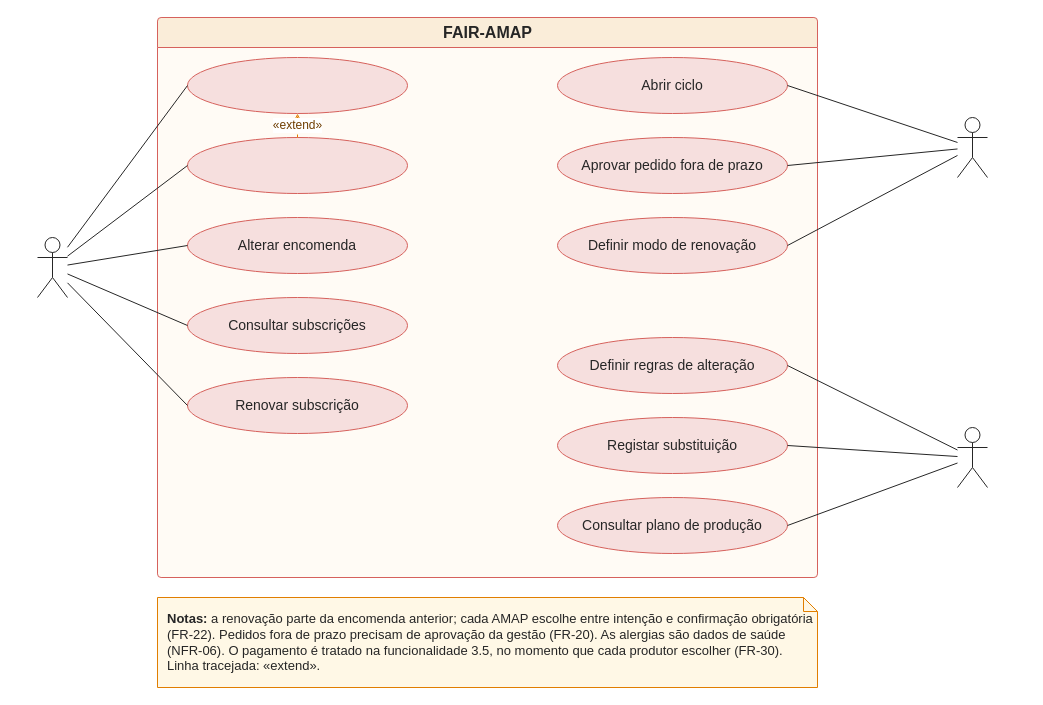
Some shapes in this 1043 by 705 pixel diagram are drawn without their labels. The centre of each missing label's shape, as x and y in pixels:
"Coprodutor" belongs at (x=52, y=267).
"Gestão da AMAP" belongs at (x=972, y=147).
"Produtor" belongs at (x=972, y=457).
"Registar exclusões" belongs at (x=297, y=165).
"Subscrever um ciclo" belongs at (x=297, y=85).
